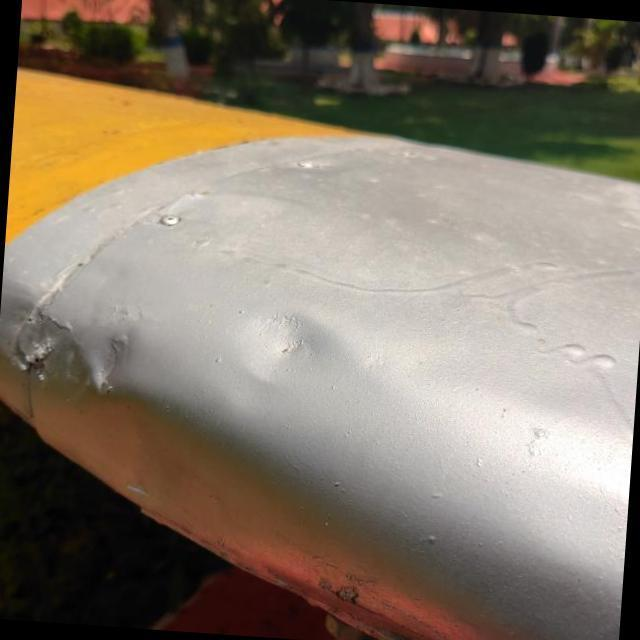dent: (211, 282, 355, 421), (41, 305, 138, 403)
